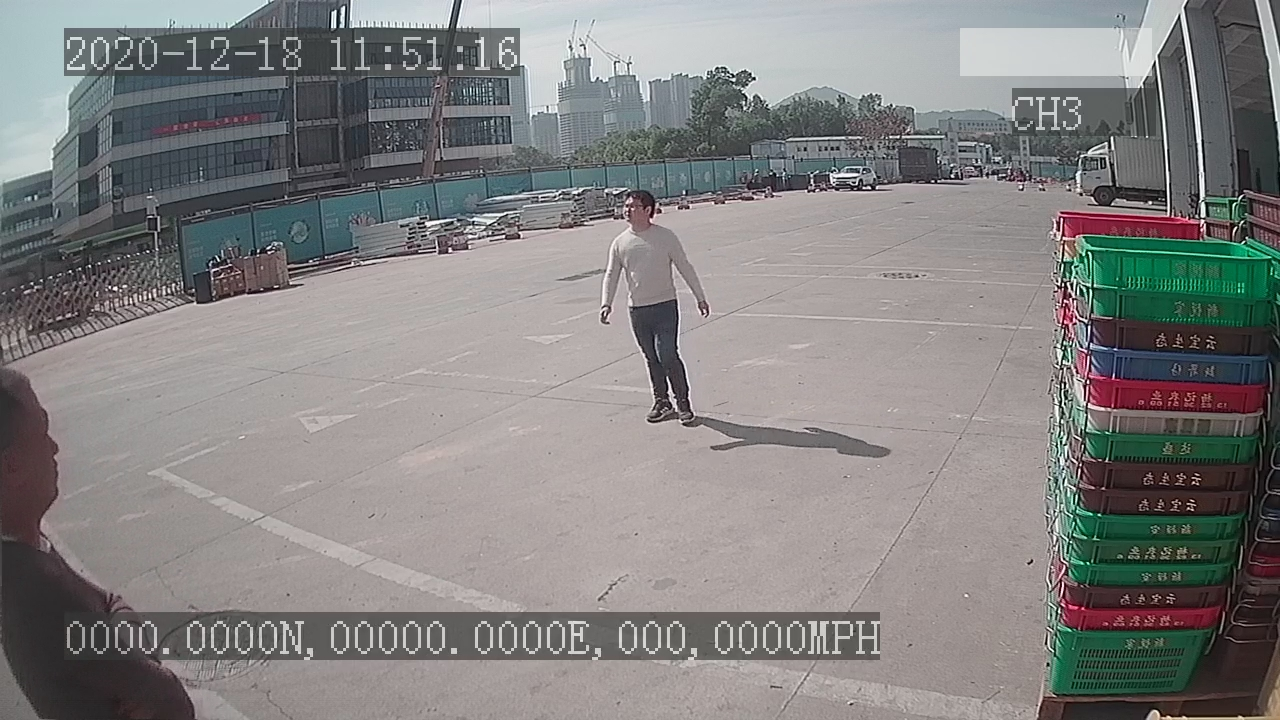person: (597, 185, 715, 429)
